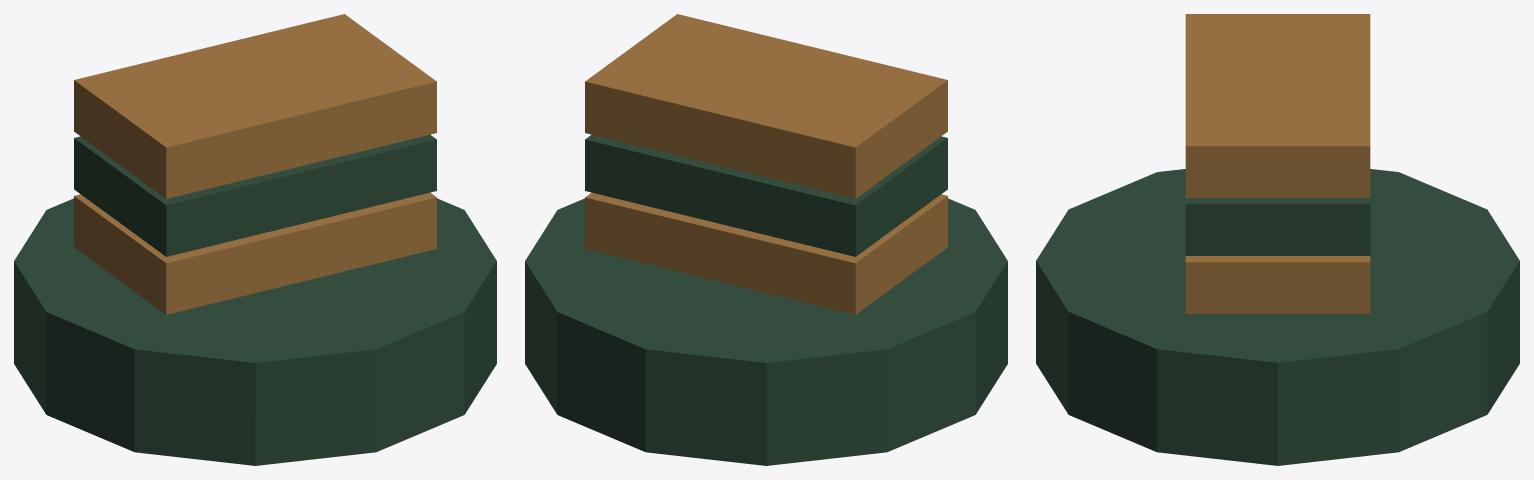
File: PRP_Pickup_Cash.fbx
3 views of the same model, side by side, from view 1: azimuth 30°, elevation 25°; view 2: azimuth 150°, elevation 25°; view 3: azimuth 270°, elevation 25° (orthographic).
Visible parts, largest first — view 1: PRP_Pickup_Cash__BODY; view 2: PRP_Pickup_Cash__BODY; view 3: PRP_Pickup_Cash__BODY.
Part boxes in pixels (x1,y1,x2,y2): PRP_Pickup_Cash__BODY: [14, 14, 496, 465]; PRP_Pickup_Cash__BODY: [525, 14, 1007, 465]; PRP_Pickup_Cash__BODY: [1036, 14, 1519, 465].
Bounding box in the file's own units: 0.68 × 0.44 × 0.68.
